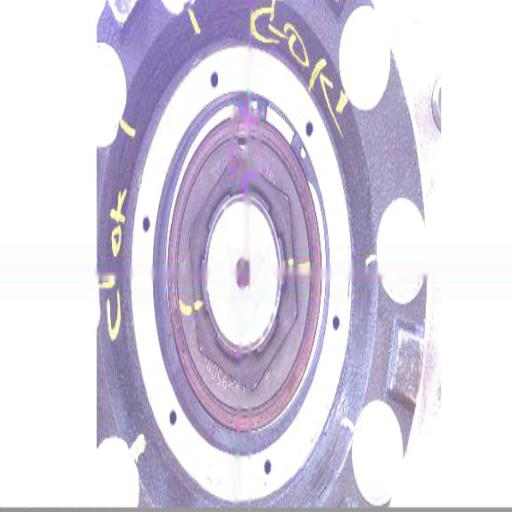center: (234, 254, 255, 297)
notch: (234, 129, 252, 155)
